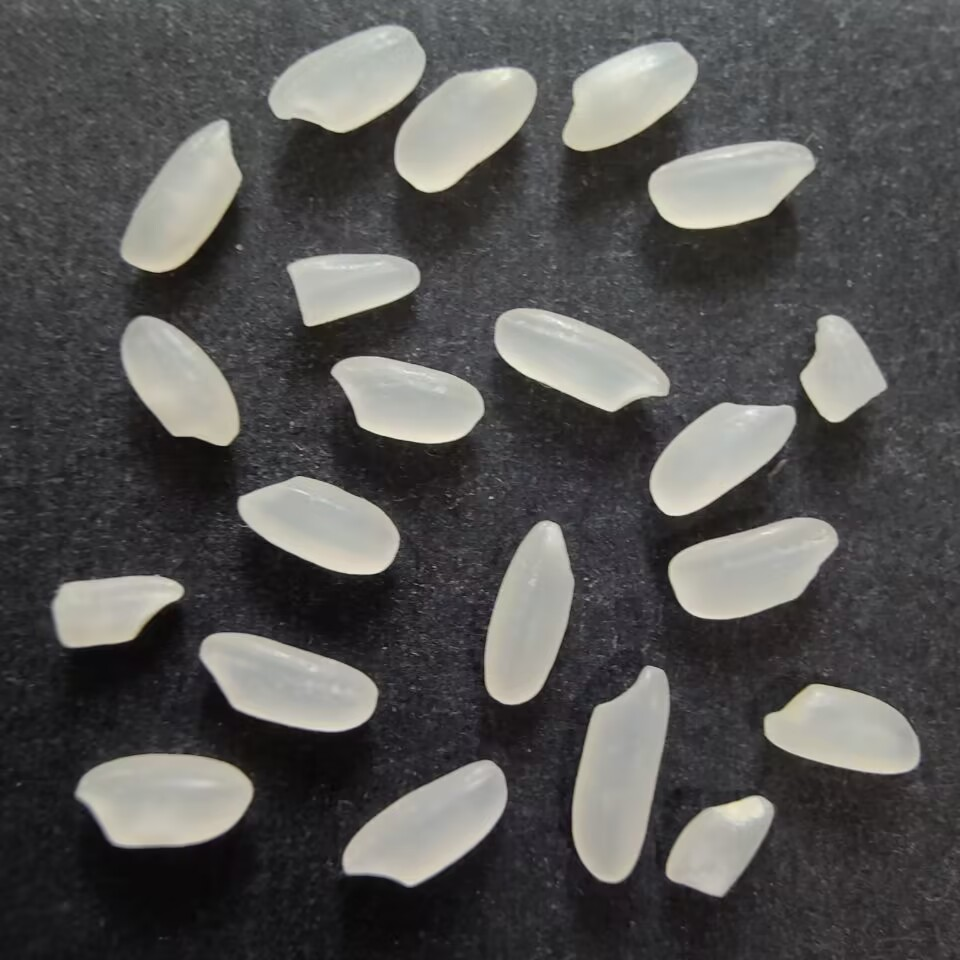broken: (661, 794, 776, 900), (281, 249, 424, 329), (47, 573, 186, 653), (798, 310, 891, 428)
rice: (566, 658, 672, 886), (334, 757, 513, 889), (117, 115, 247, 275), (194, 629, 382, 735), (491, 306, 673, 414), (394, 61, 540, 195), (71, 750, 257, 854), (479, 516, 579, 709), (264, 22, 429, 138), (663, 515, 841, 621), (231, 472, 403, 578), (649, 399, 801, 518), (120, 315, 243, 450), (644, 136, 820, 230), (561, 39, 702, 155), (755, 681, 921, 776), (329, 352, 487, 445)
